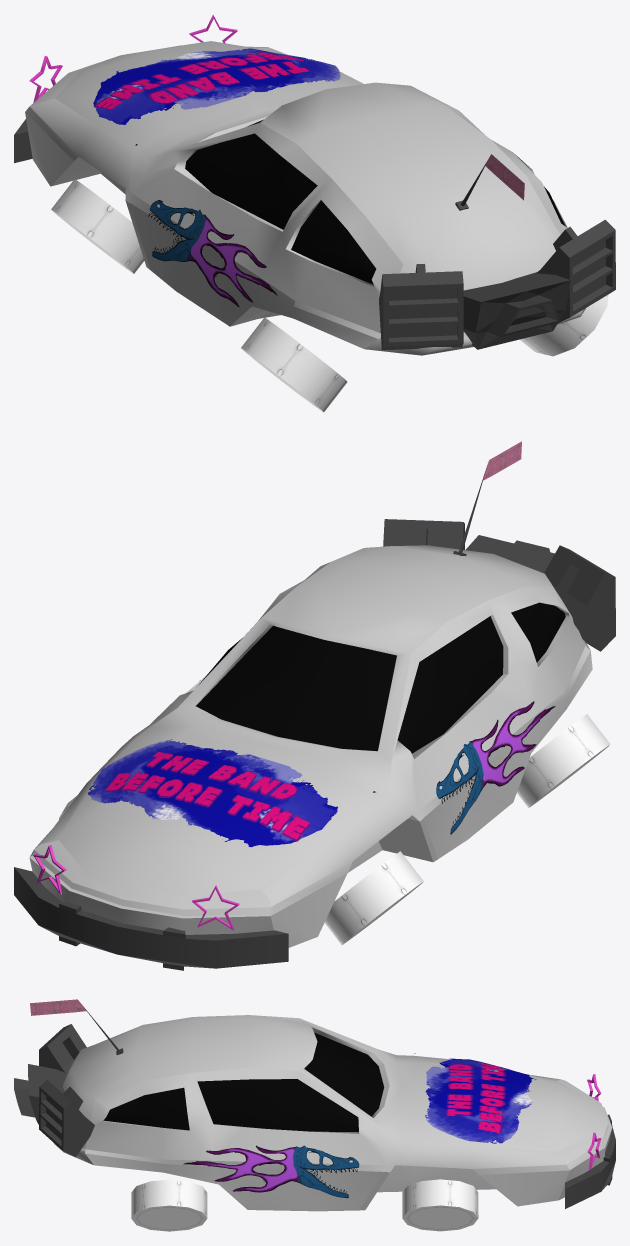
File: V_pop_car.FBX
The picture shows the model from 3 angles, top to bottom: view 1: azimuth 30°, elevation 25°; view 2: azimuth 150°, elevation 25°; view 3: azimuth 270°, elevation 25°; orthographic projection. The views are drawn at different scales.
Visible parts, largest first — view 1: Box046; view 2: Box046; view 3: Box046.
Part boxes in pixels (left/top/right/bottom): Box046: left=14, top=14, right=615, bottom=412; Box046: left=14, top=441, right=615, bottom=970; Box046: left=14, top=999, right=615, bottom=1231.
Size of the model in its own units: 5.06 by 3.73 by 10.47.
